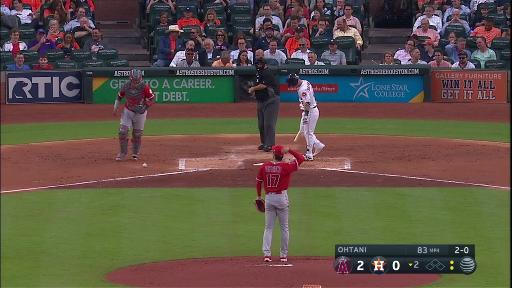pitcher: (255, 145, 304, 261)
